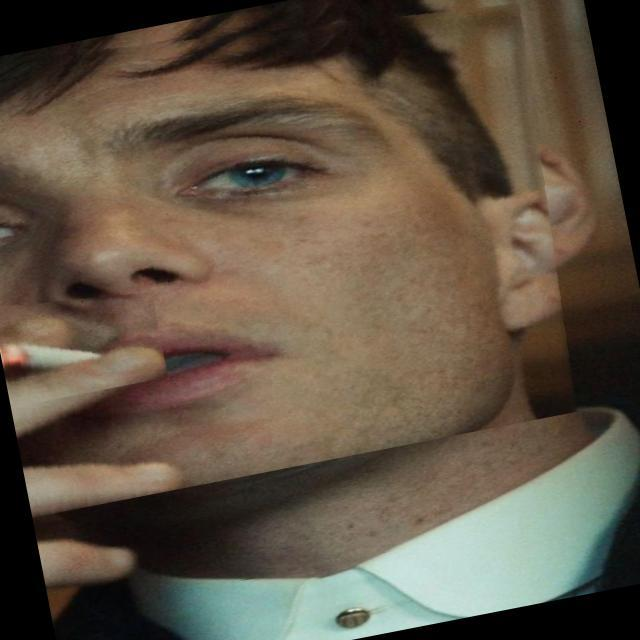cigarette: (0, 277, 168, 407)
